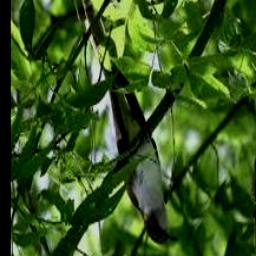Cuckoo: (81, 0, 177, 245)
